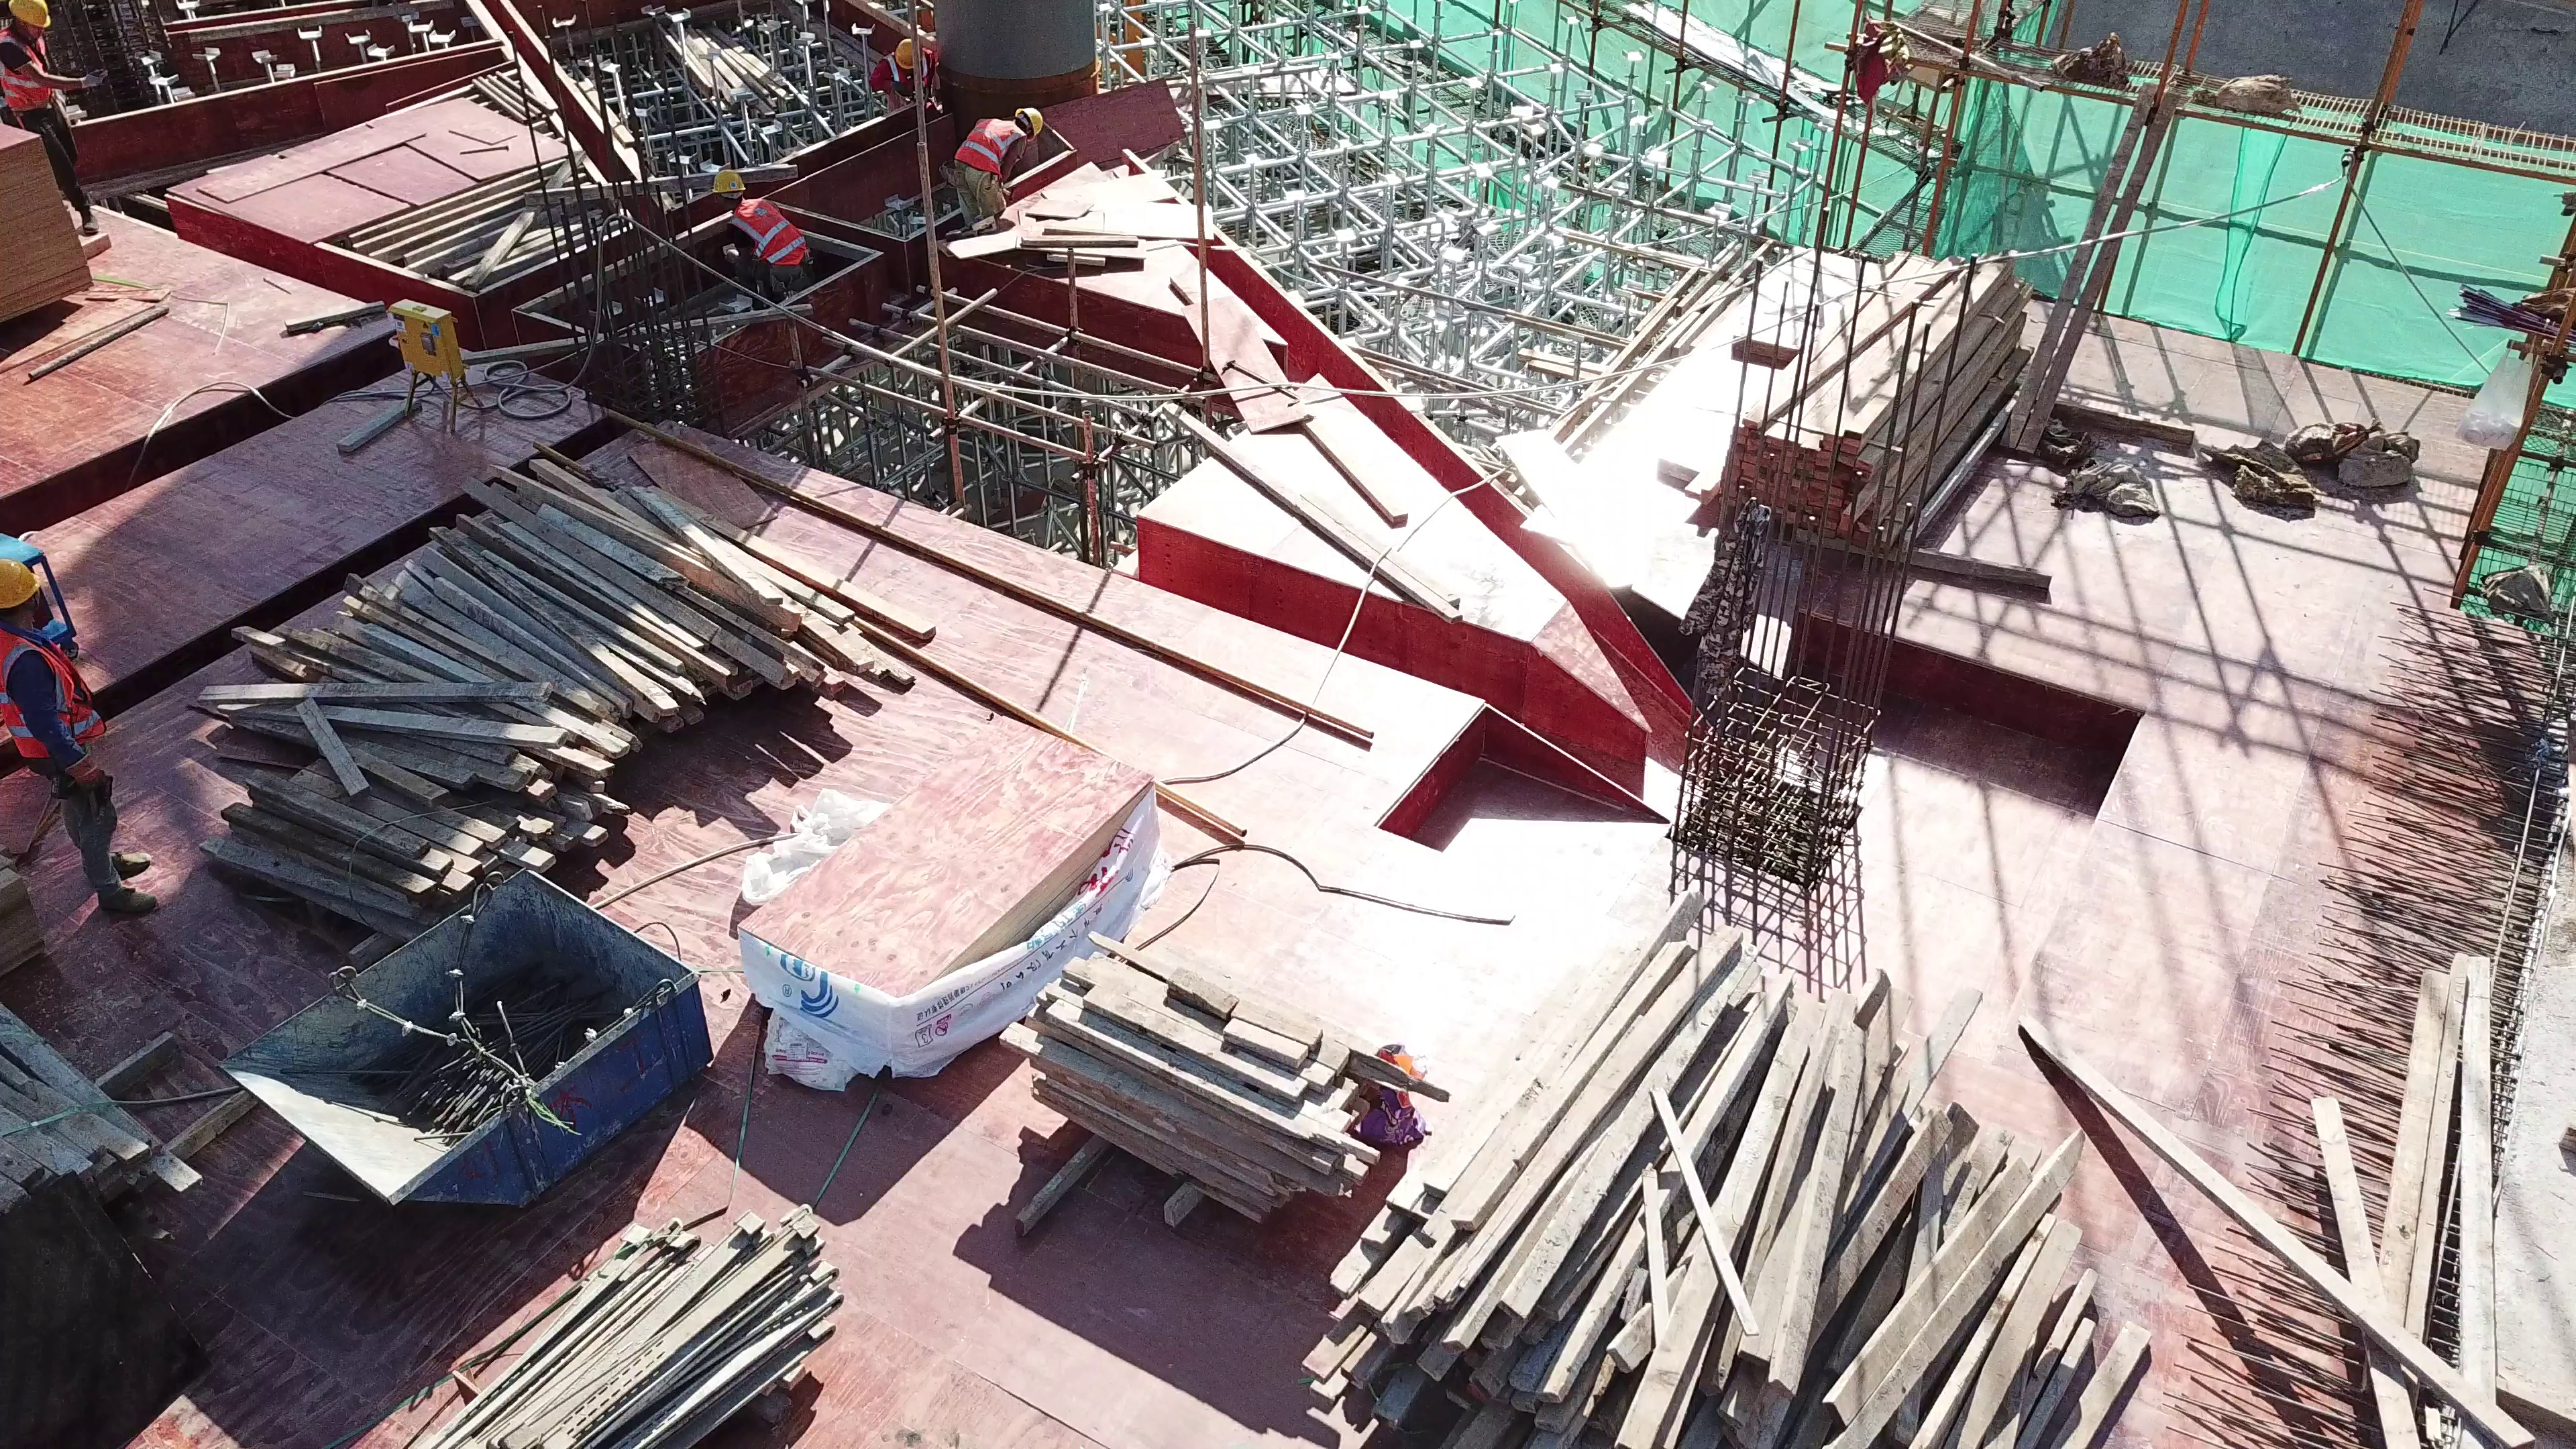helmet: (1, 558, 44, 613), (1014, 107, 1044, 143), (712, 167, 745, 194), (894, 38, 914, 69)
person: (1, 558, 169, 919), (1, 1, 105, 235), (707, 163, 812, 300), (949, 109, 1050, 231), (867, 41, 936, 105)
vest: (1, 631, 112, 790), (724, 196, 808, 266), (951, 119, 1030, 178), (869, 53, 935, 96)
